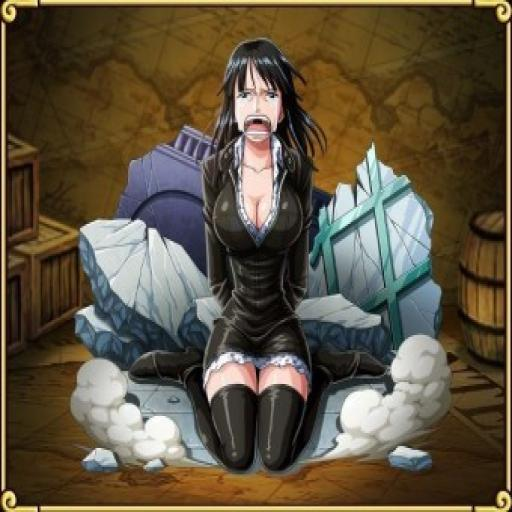NicoRobin: (203, 32, 327, 171)
